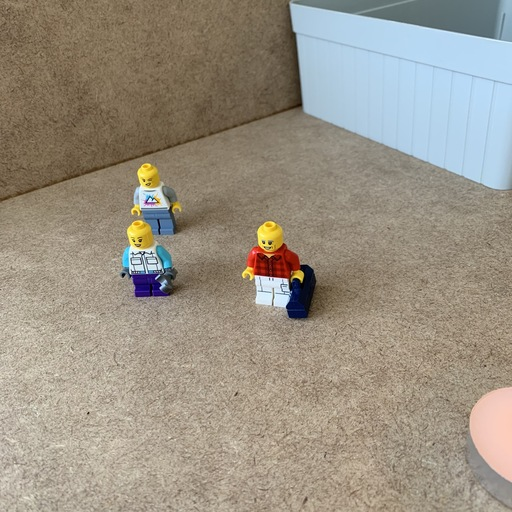human: (238, 214, 321, 327), (113, 224, 181, 298), (124, 160, 183, 235)
